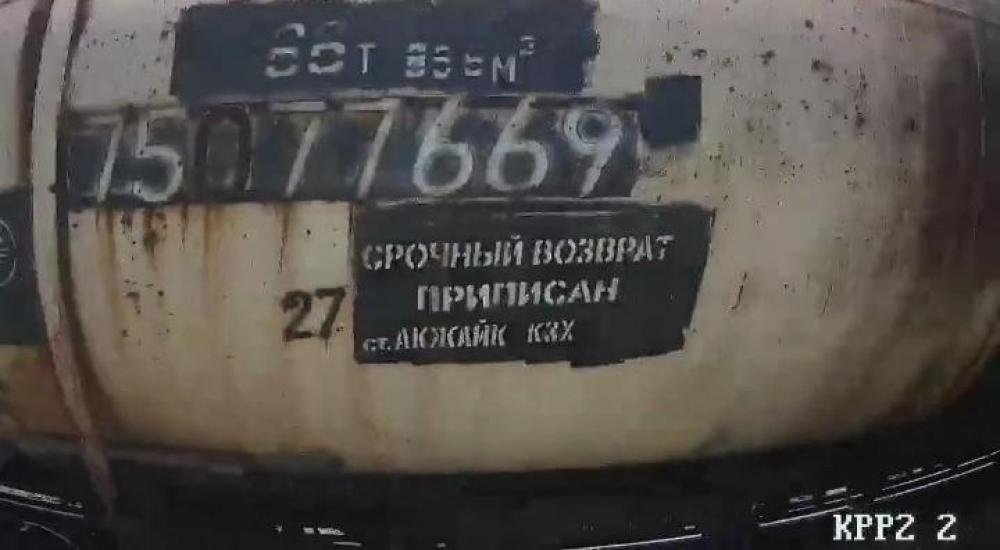Wagon-number: (73, 94, 632, 212)
